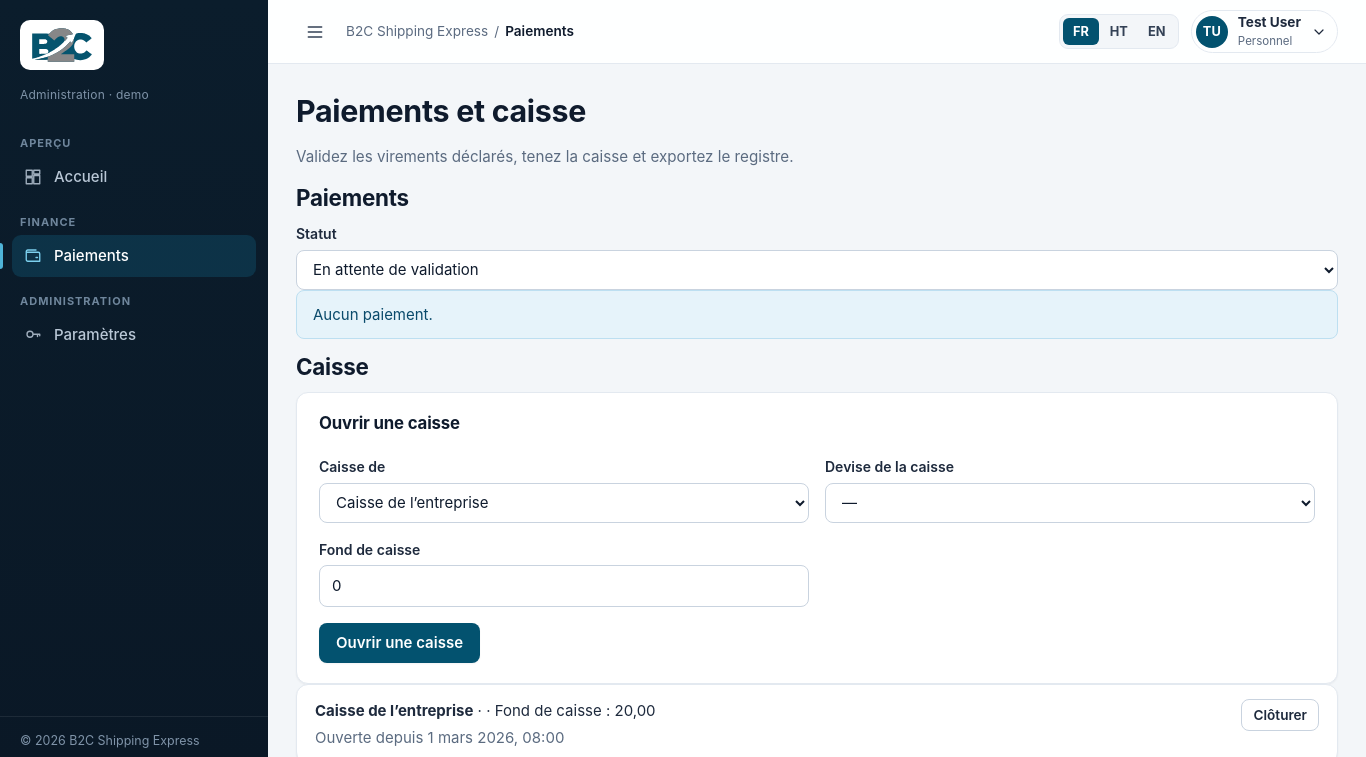
Test: paiements et caisse (personnel) › caisse : ouverture puis clôture avec écart affiché
This screenshot has width=1366, height=757.
Click the button "Clôturer": {"x": 1280, "y": 715} [1242,699,1319,731]
(page scrolled)
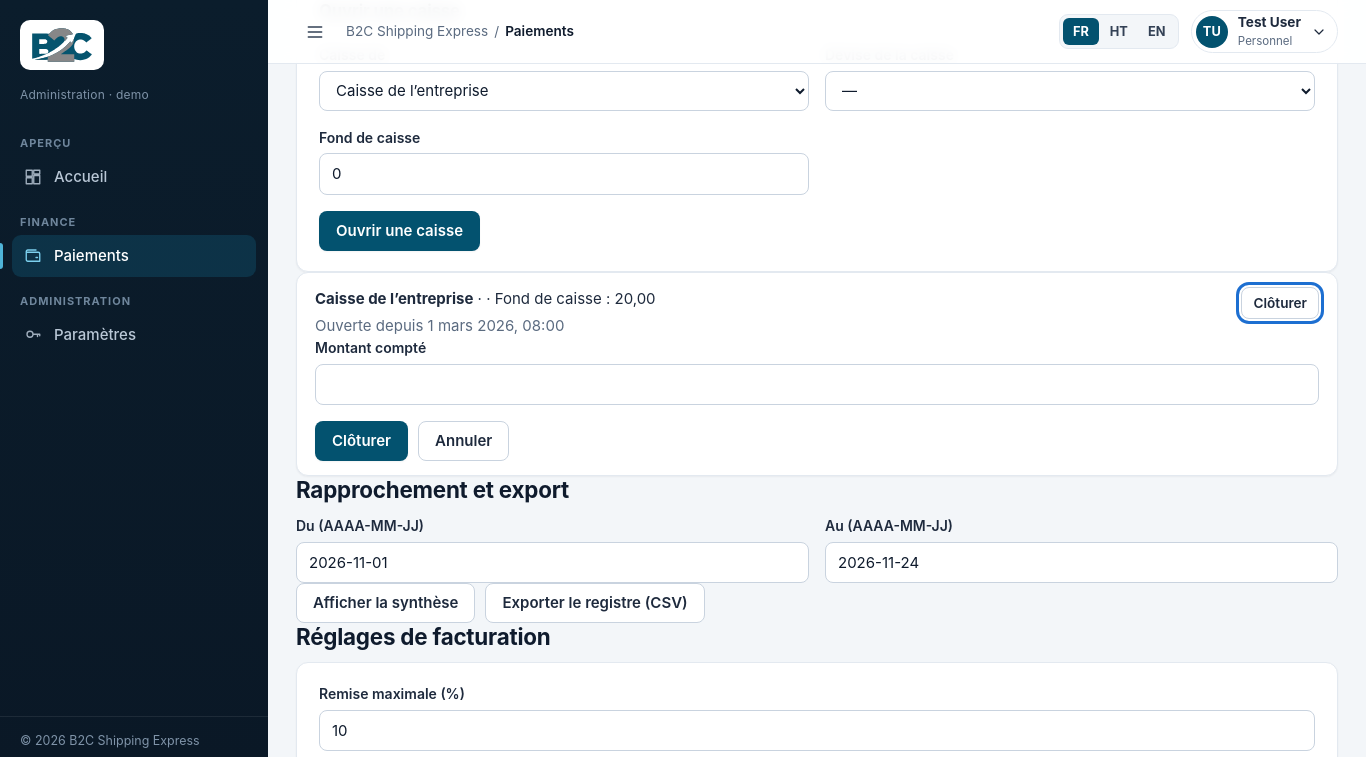
In the field labelled "Montant compté": {"x": 817, "y": 385} [315,364,1319,405], type "27,5"
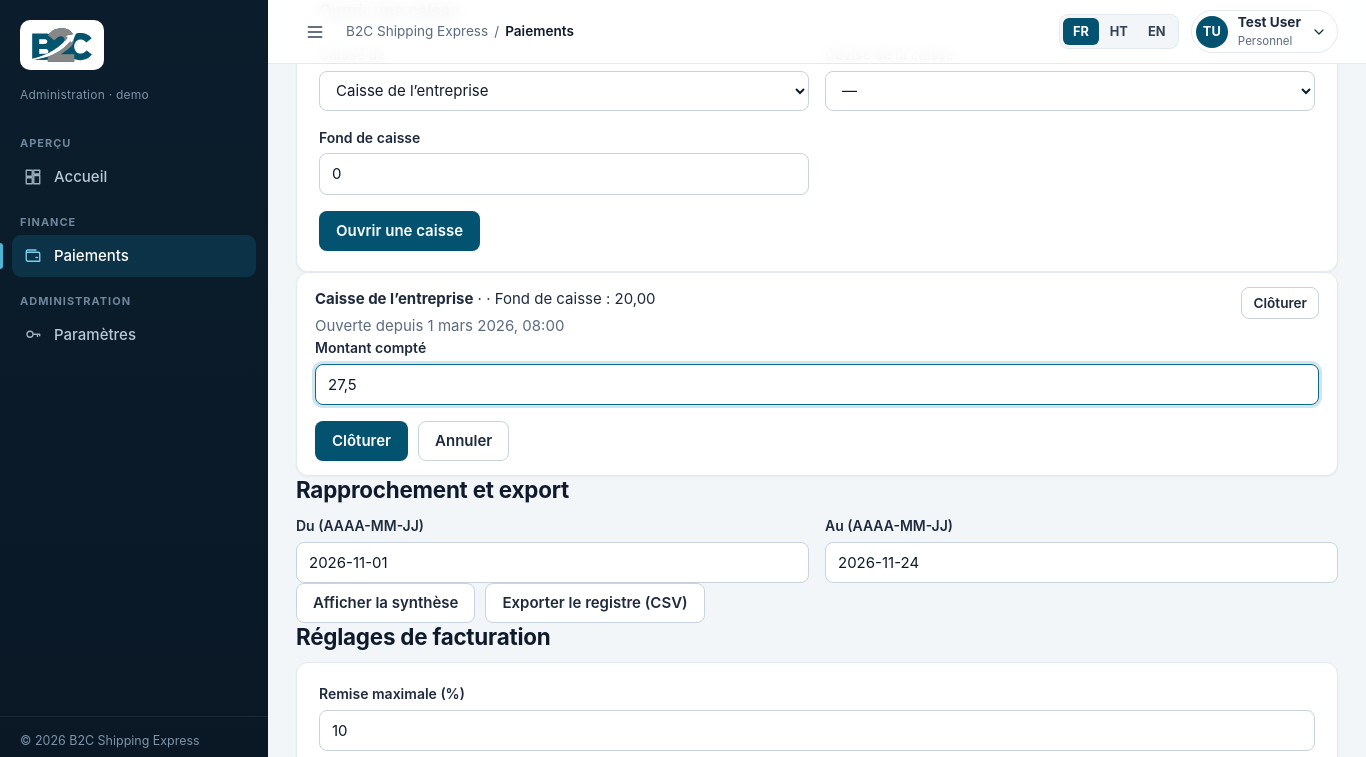
Click the button "Clôturer" below "Montant compté": {"x": 362, "y": 441} [315,421,408,461]
(page scrolled)
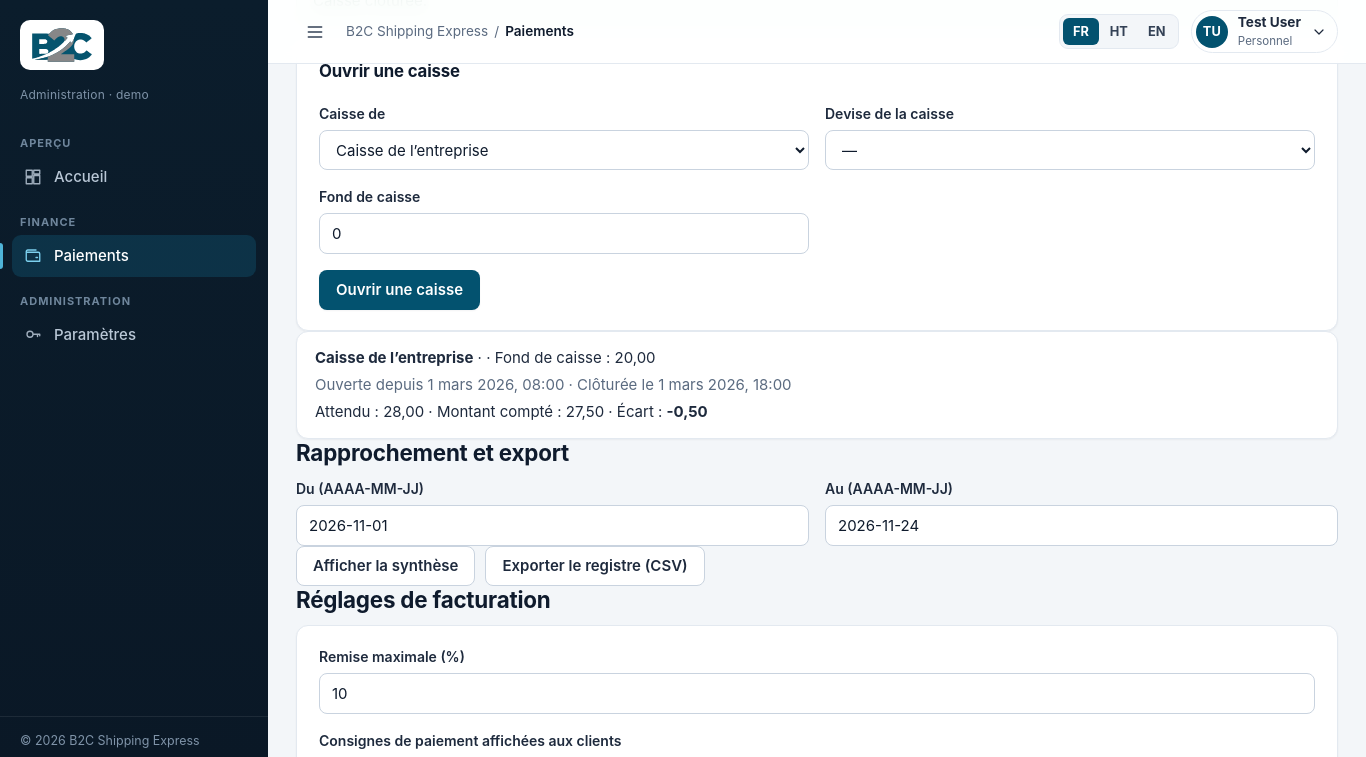
Now the list item with test id "cash-session" shows "-0,50", box [667,402,708,422]
